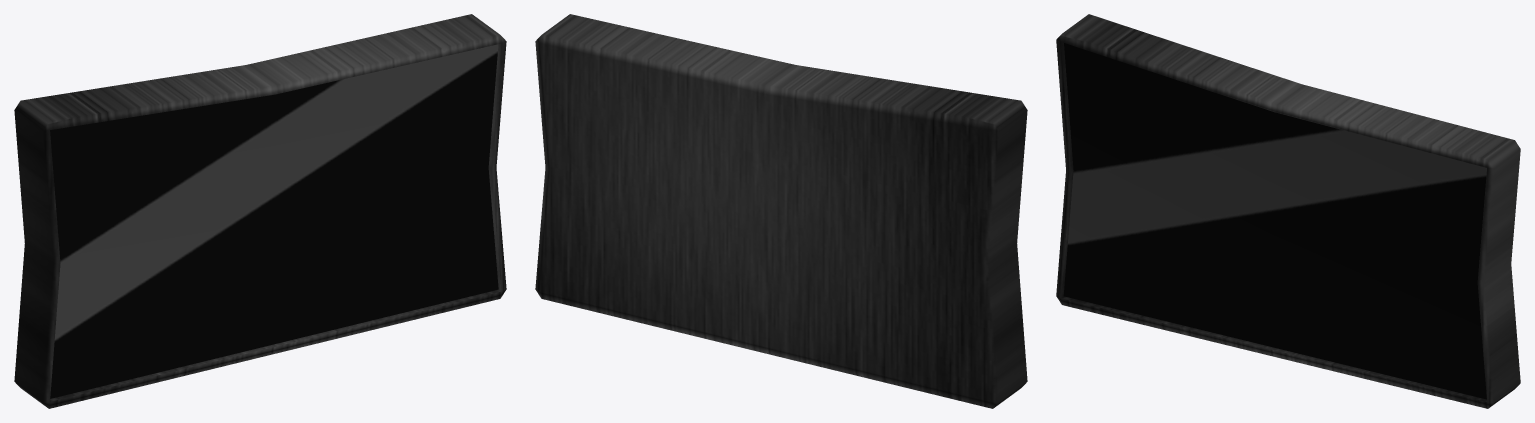
3 views of the same model, side by side, from view 1: azimuth 30°, elevation 25°; view 2: azimuth 150°, elevation 25°; view 3: azimuth 330°, elevation 25° (orthographic). The views are drawn at different scales.
Parts seen in each view (by area): view 1: flatscreen_tv; view 2: flatscreen_tv; view 3: flatscreen_tv.
Part boxes in pixels (bbox=[...]): flatscreen_tv: bbox=[14, 14, 506, 408]; flatscreen_tv: bbox=[535, 14, 1027, 408]; flatscreen_tv: bbox=[1056, 14, 1520, 408].
Bounding box in the file's own units: 201 × 119 × 22.88.
